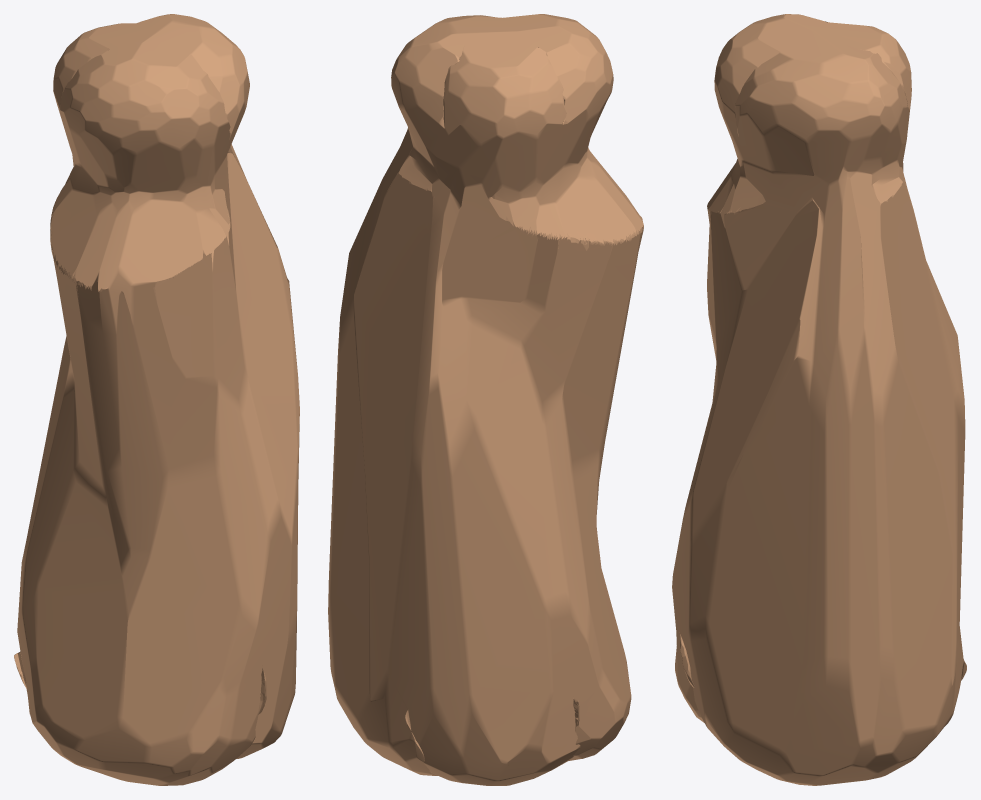
3 renders of one model, left to right at view 1: azimuth 30°, elevation 25°; view 2: azimuth 150°, elevation 25°; view 3: azimuth 270°, elevation 25°, orthographic. The views are drawn at different scales.
Visible parts, largest first — view 1: Mesh_25_LOD0; view 2: Mesh_25_LOD0; view 3: Mesh_25_LOD0.
Boxes of the visible parts, x1,y1,x2,y2 form: Mesh_25_LOD0: (14,14,299,785); Mesh_25_LOD0: (328,14,643,785); Mesh_25_LOD0: (672,14,966,785).
Size of what is drawn, in the model's own units: 384 by 1009 by 381.
